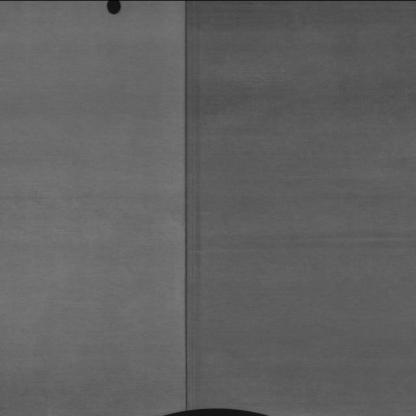crescent_gap: (148, 407, 280, 416)
punching_hole: (104, 0, 129, 18)
welding_line: (172, 0, 194, 412)
